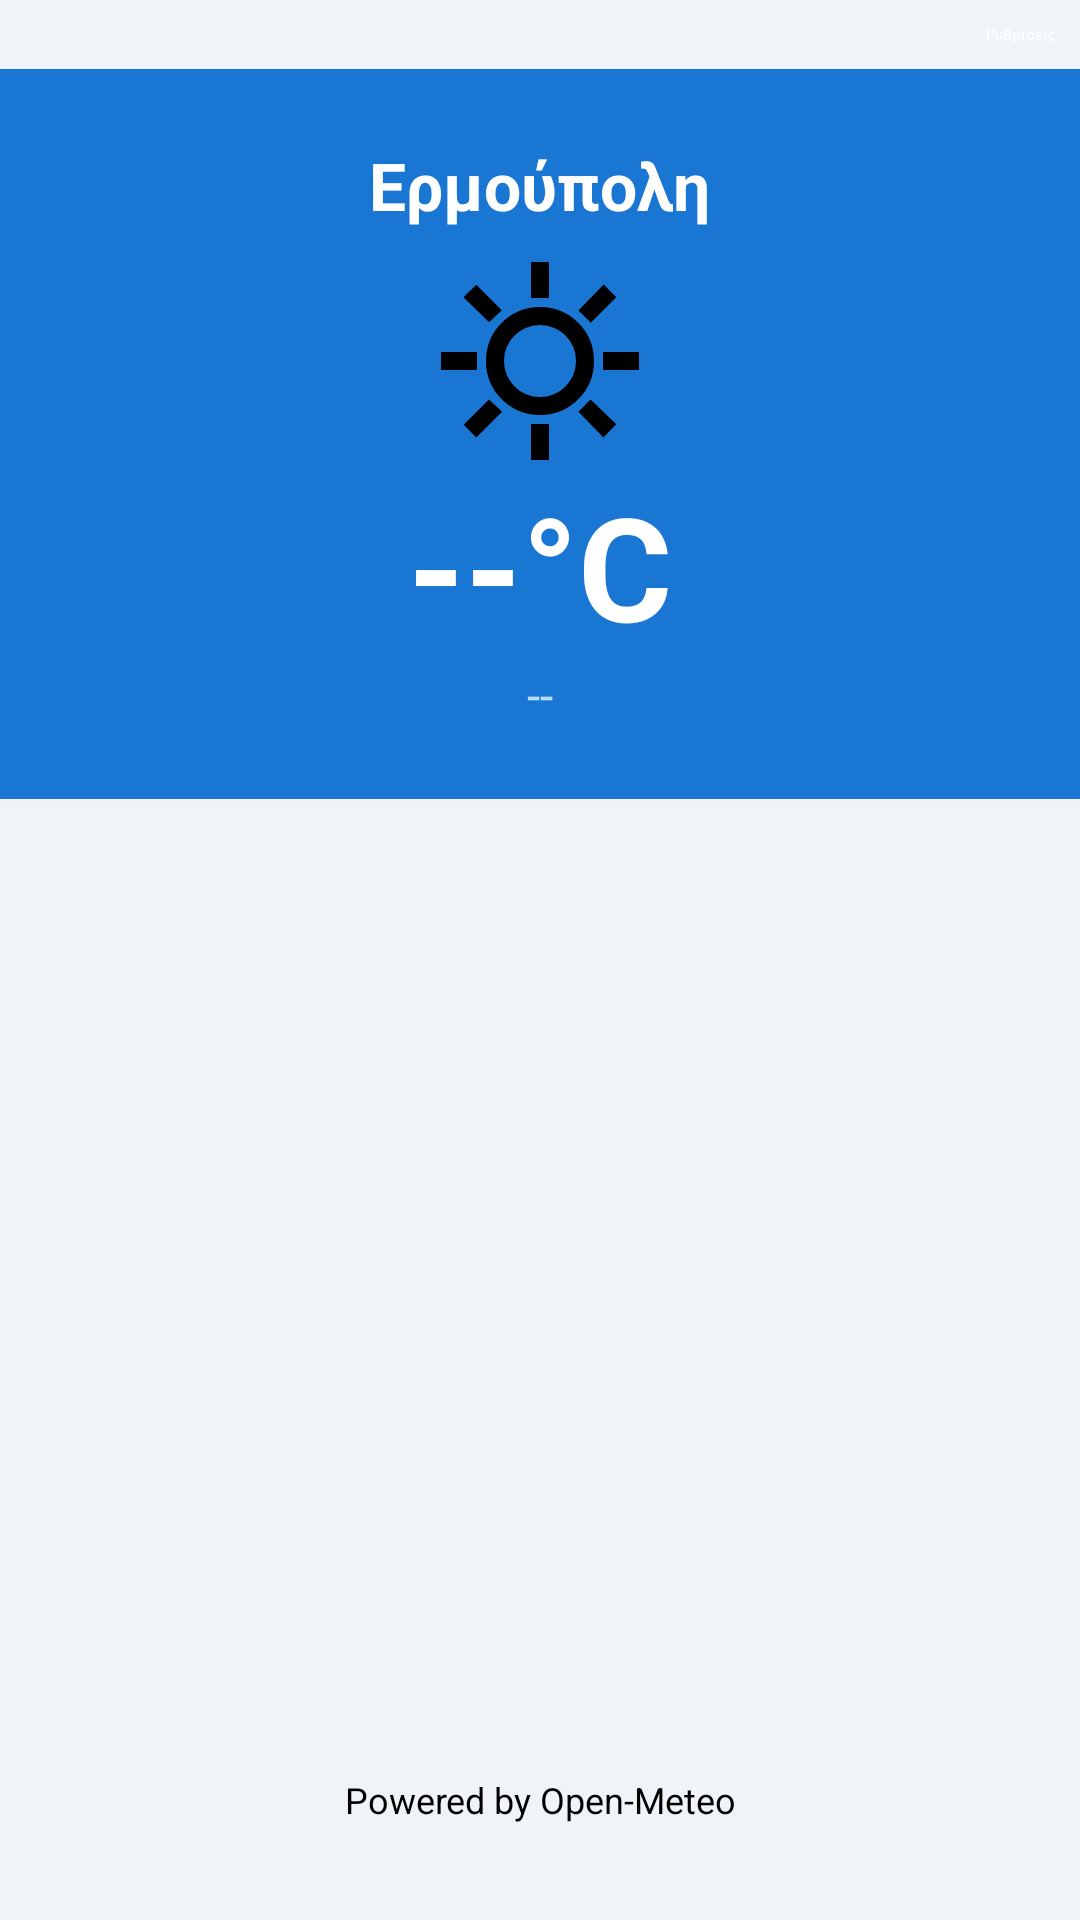

Point at icon controls on the screen. Image size 1080w x 1920h, points as (x=x, y=y).
clear: (x=540, y=361)
